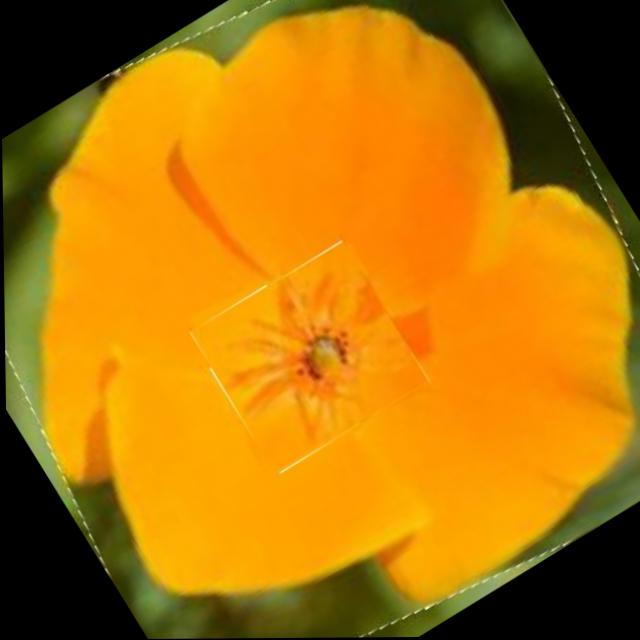Flower: (187, 239, 433, 478)
